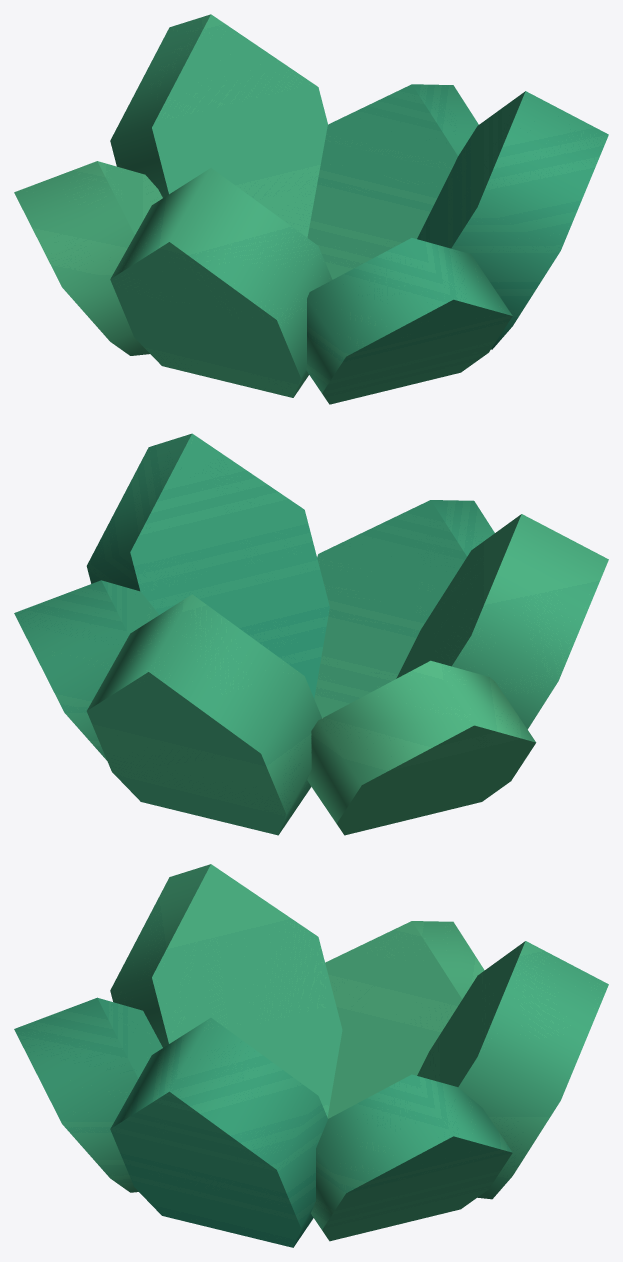
The model's file is grass-plant.glb.
3 renders of one model, top to bottom at view 1: azimuth 30°, elevation 25°; view 2: azimuth 150°, elevation 25°; view 3: azimuth 270°, elevation 25°, orthographic. The views are drawn at different scales.
Parts seen in each view (by area): view 1: grass-plant; view 2: grass-plant; view 3: grass-plant.
Part boxes in pixels (x1,y1,x2,y2): grass-plant: (14, 14, 608, 404); grass-plant: (14, 433, 608, 835); grass-plant: (14, 864, 608, 1247).
Bounding box in the file's own units: 1.11 × 0.5196 × 1.24.
Materials: 1 (1 with a texture image).
